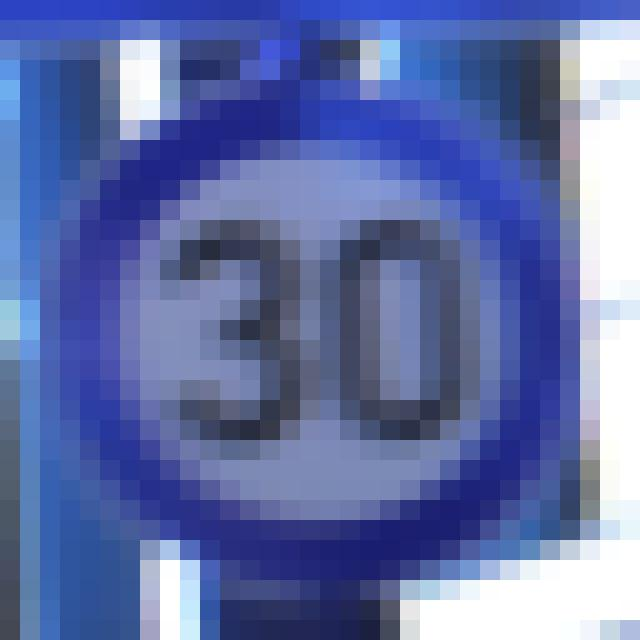SPEED LIMIT 30: (69, 93, 564, 560)
